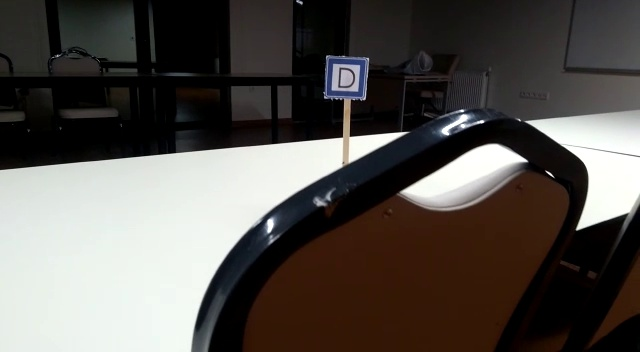durak: (325, 56, 368, 99)
